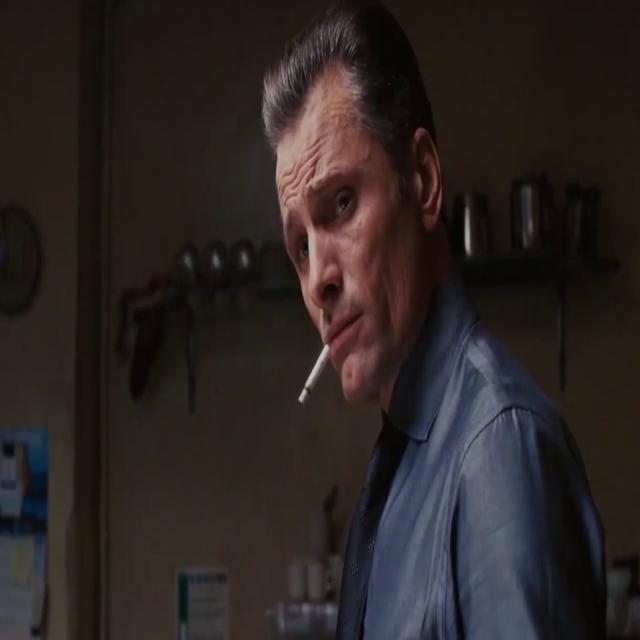Smooking: (286, 340, 336, 406)
